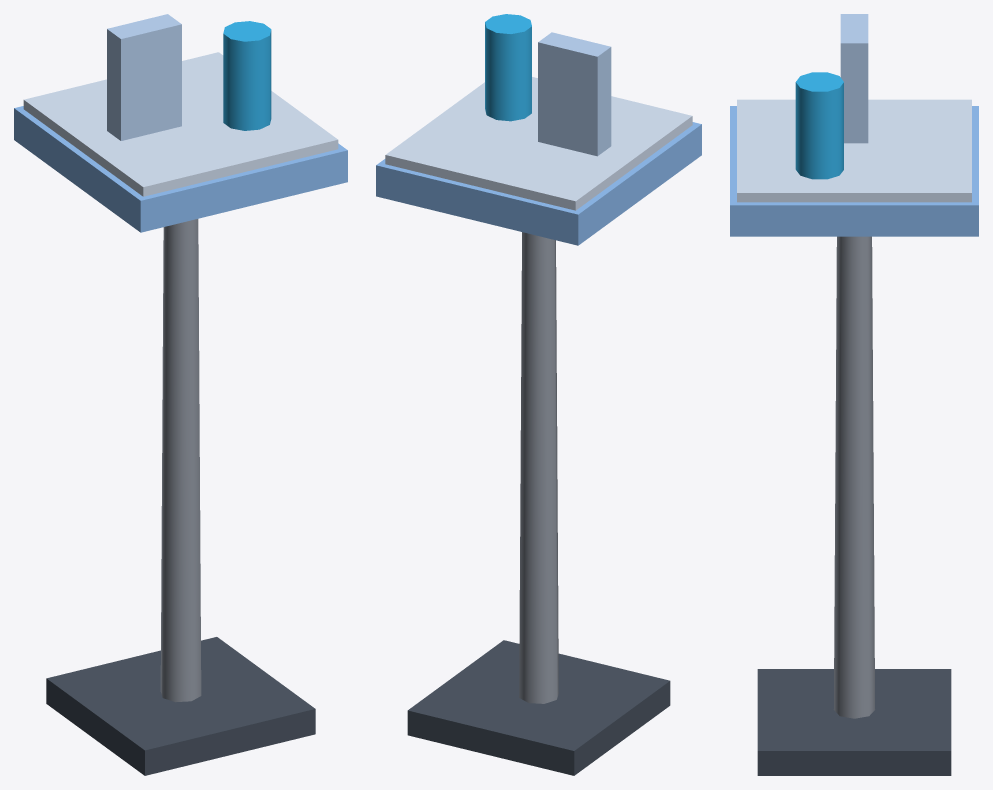
File: parametric-source.glb
The picture shows the model from 3 angles, left to right: view 1: azimuth 30°, elevation 25°; view 2: azimuth 150°, elevation 25°; view 3: azimuth 270°, elevation 25°; orthographic projection. The views are drawn at different scales.
Visible parts, largest first — view 1: openclinxr.equipment.hydration_supplies_equipment.base, openclinxr.equipment.hydration_supplies_equipment.tray_surfa, openclinxr.equipment.hydration_supplies_equipment.stand, openclinxr.equipment.hydration_supplies_equipment.tray_lip, openclinxr.equipment.hydration_supplies_equipment.iv_bag, openclinxr.equipment.hydration_supplies_equipment.water_bott; view 2: openclinxr.equipment.hydration_supplies_equipment.base, openclinxr.equipment.hydration_supplies_equipment.tray_surfa, openclinxr.equipment.hydration_supplies_equipment.stand, openclinxr.equipment.hydration_supplies_equipment.tray_lip, openclinxr.equipment.hydration_supplies_equipment.iv_bag, openclinxr.equipment.hydration_supplies_equipment.water_bott; view 3: openclinxr.equipment.hydration_supplies_equipment.tray_surfa, openclinxr.equipment.hydration_supplies_equipment.base, openclinxr.equipment.hydration_supplies_equipment.stand, openclinxr.equipment.hydration_supplies_equipment.tray_lip, openclinxr.equipment.hydration_supplies_equipment.water_bott, openclinxr.equipment.hydration_supplies_equipment.iv_bag.
Part boxes in pixels (x1,y1,x2,y2): openclinxr.equipment.hydration_supplies_equipment.base: (46,637,315,775); openclinxr.equipment.hydration_supplies_equipment.tray_surfa: (23,52,338,196); openclinxr.equipment.hydration_supplies_equipment.stand: (160,219,201,702); openclinxr.equipment.hydration_supplies_equipment.tray_lip: (14,106,347,232); openclinxr.equipment.hydration_supplies_equipment.iv_bag: (107,14,181,140); openclinxr.equipment.hydration_supplies_equipment.water_bott: (223,21,271,130); openclinxr.equipment.hydration_supplies_equipment.base: (407,640,670,775); openclinxr.equipment.hydration_supplies_equipment.tray_surfa: (385,77,692,210); openclinxr.equipment.hydration_supplies_equipment.stand: (519,232,558,703); openclinxr.equipment.hydration_supplies_equipment.tray_lip: (376,122,701,245); openclinxr.equipment.hydration_supplies_equipment.iv_bag: (538,32,611,156); openclinxr.equipment.hydration_supplies_equipment.water_bott: (485,14,531,121); openclinxr.equipment.hydration_supplies_equipment.tray_surfa: (737,99,971,202); openclinxr.equipment.hydration_supplies_equipment.base: (757,669,951,775); openclinxr.equipment.hydration_supplies_equipment.stand: (833,236,875,718); openclinxr.equipment.hydration_supplies_equipment.tray_lip: (730,106,978,236); openclinxr.equipment.hydration_supplies_equipment.water_bott: (795,72,843,179); openclinxr.equipment.hydration_supplies_equipment.iv_bag: (840,14,868,143).
Bounding box in the file's own units: 0.34 × 1.1 × 0.36.
